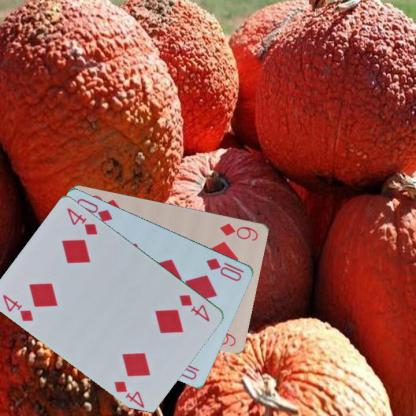10d: (204, 255, 246, 282)
4d: (0, 292, 35, 323), (177, 292, 211, 323)
6d: (218, 220, 260, 242)
